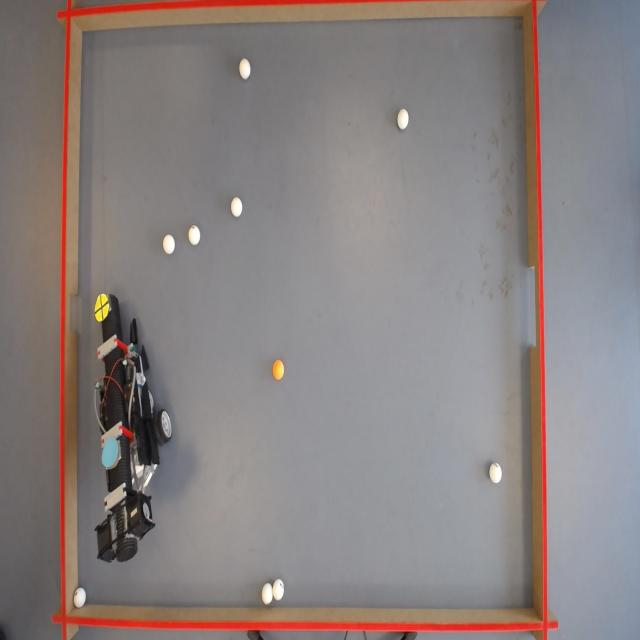orange: (272, 360, 285, 380)
robot: (91, 288, 177, 571)
robot-front: (95, 293, 111, 323)
robot-rear: (101, 437, 121, 469)
white: (272, 580, 285, 604), (239, 58, 253, 80), (396, 108, 409, 130), (74, 587, 87, 609), (230, 197, 243, 218), (163, 235, 176, 256), (262, 584, 275, 605), (490, 463, 503, 483), (187, 227, 199, 247)
